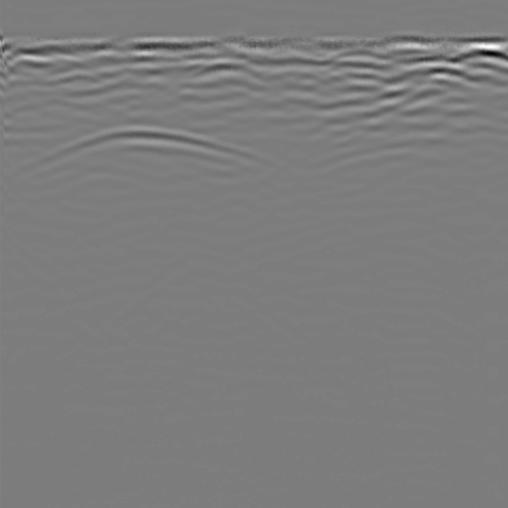hyperbola: (7, 118, 295, 221)
